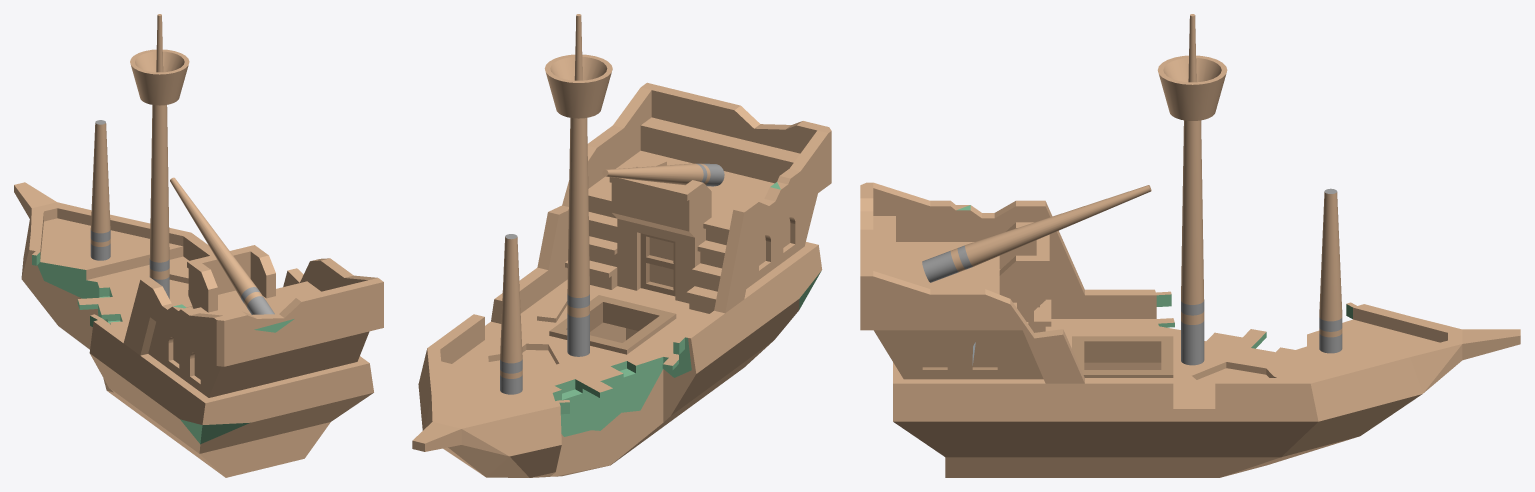
The model's file is epave_navire.glb.
3 views of the same model, side by side, from view 1: azimuth 30°, elevation 25°; view 2: azimuth 150°, elevation 25°; view 3: azimuth 270°, elevation 25° (orthographic). The views are drawn at different scales.
Visible parts, largest first — view 1: epave_navire_assimp; view 2: epave_navire_assimp; view 3: epave_navire_assimp.
Boxes of the visible parts, bbox=[...] form: epave_navire_assimp: bbox=[14, 14, 383, 477]; epave_navire_assimp: bbox=[412, 14, 831, 477]; epave_navire_assimp: bbox=[860, 14, 1520, 477].
Size of the model in its own units: 28.5 by 59.21 by 80.49.
